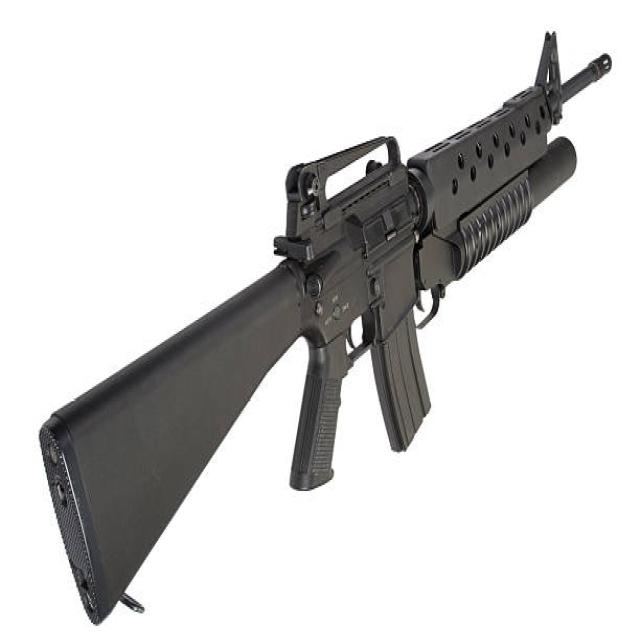rifle: (41, 25, 616, 628)
